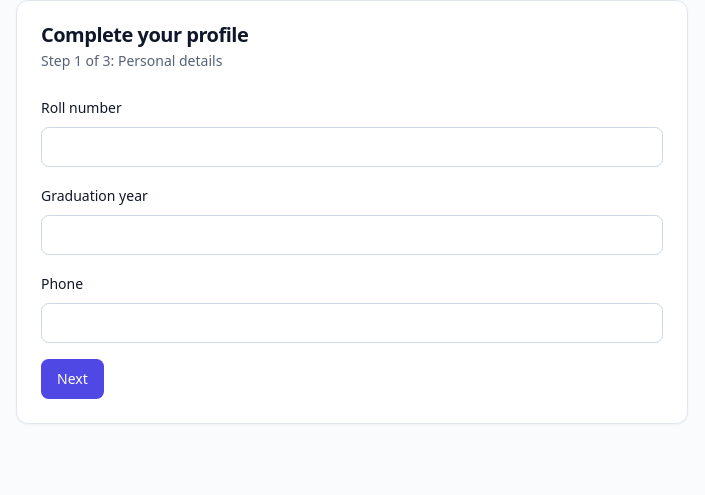
it: OnboardingWizard › shows the server error (duplicate roll number) and stays on step 1
In the field labelled "Roll number": (352, 147) [41, 127, 663, 167], type "21CS001"
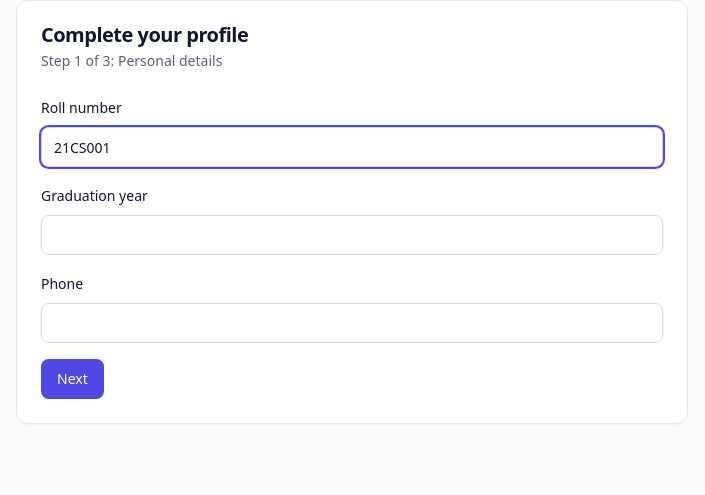
In the field labelled "Graduation year": (352, 235) [41, 215, 663, 255], type "2026"
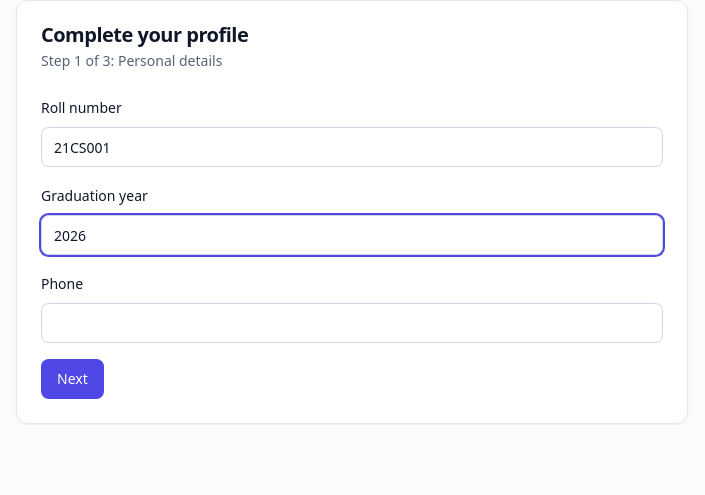
In the field labelled "Phone": (352, 323) [41, 303, 663, 343], type "9876543210"
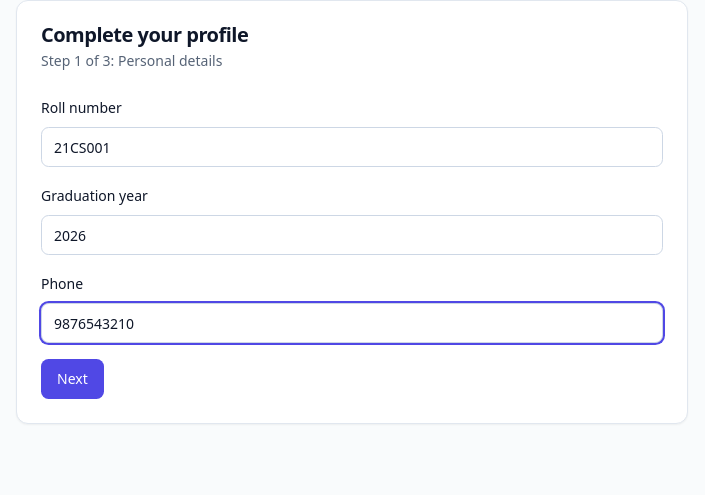
Click the button "Next": (72, 379) [41, 359, 104, 399]
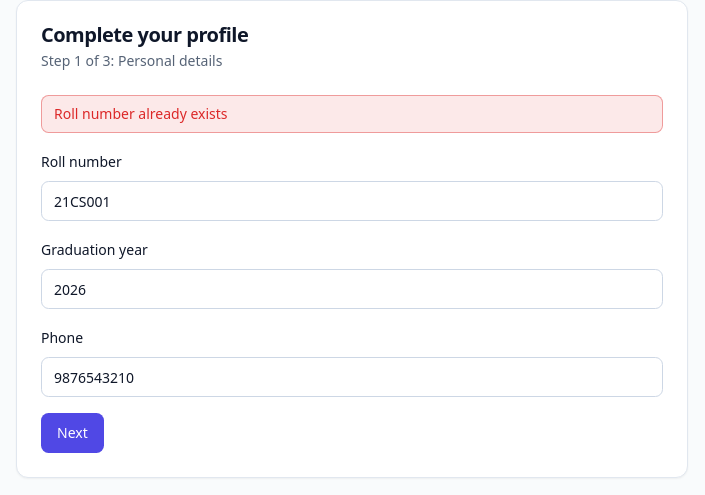
Expected: the message reads "Roll number already exists", [54, 104, 228, 123]
